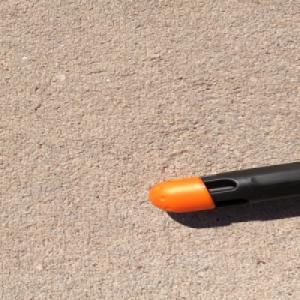PlasticPart: (146, 158, 300, 213)
